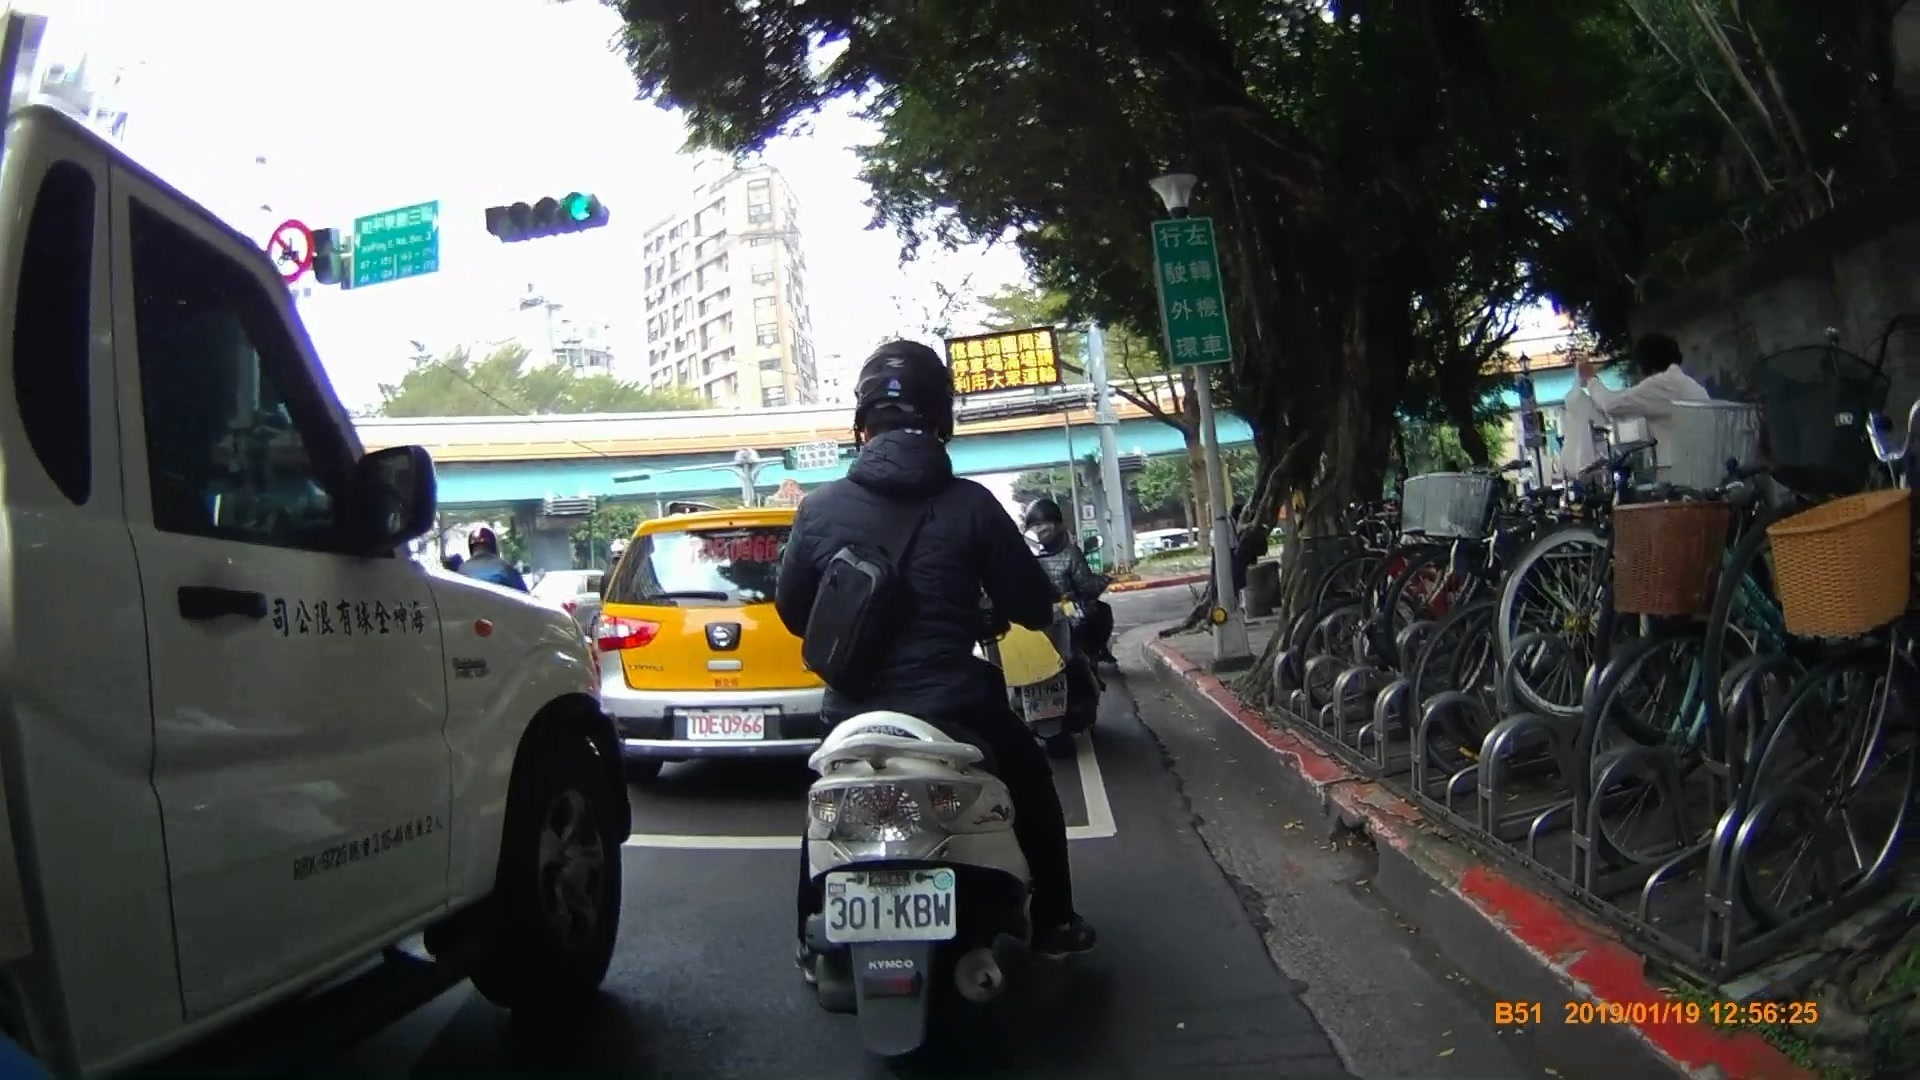License_plate: (820, 866, 955, 940), (687, 706, 765, 744)
